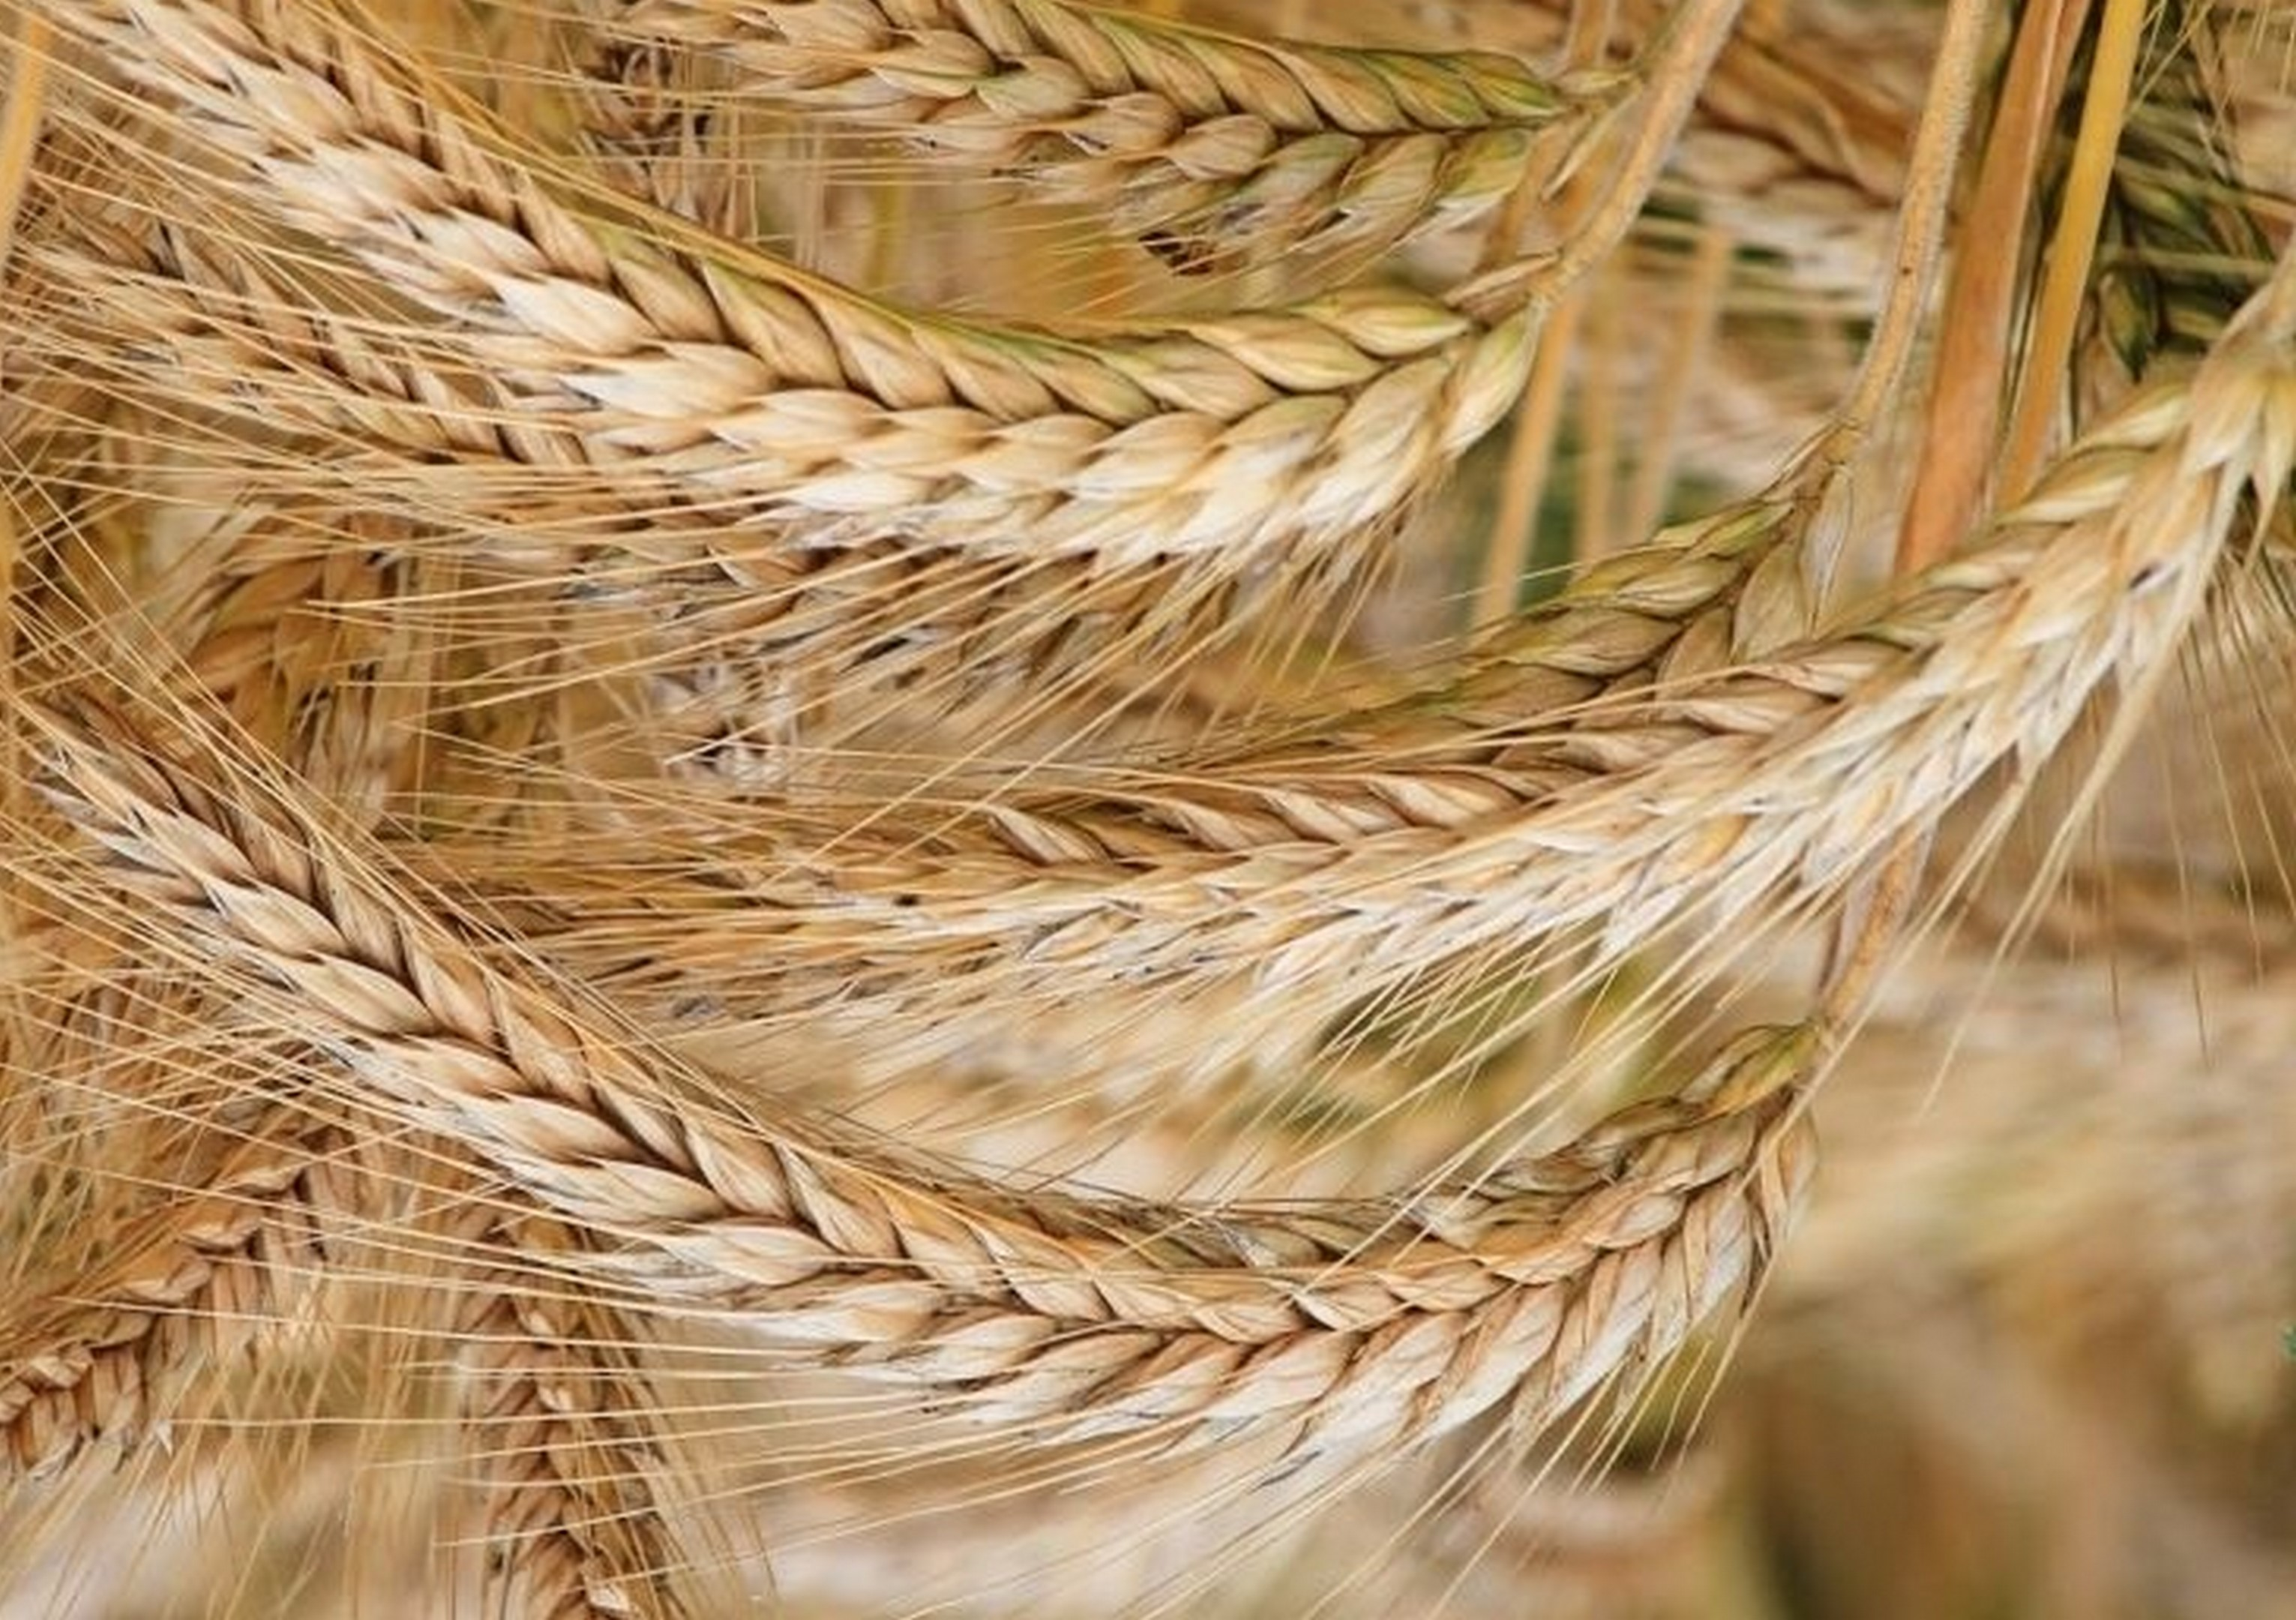Healthy Wheat: (93, 635, 1910, 1525)
